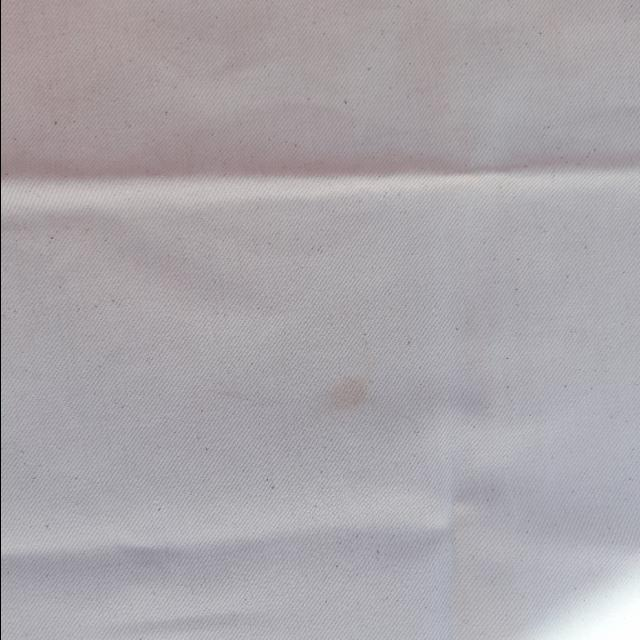taaaches: (302, 373, 380, 435)
